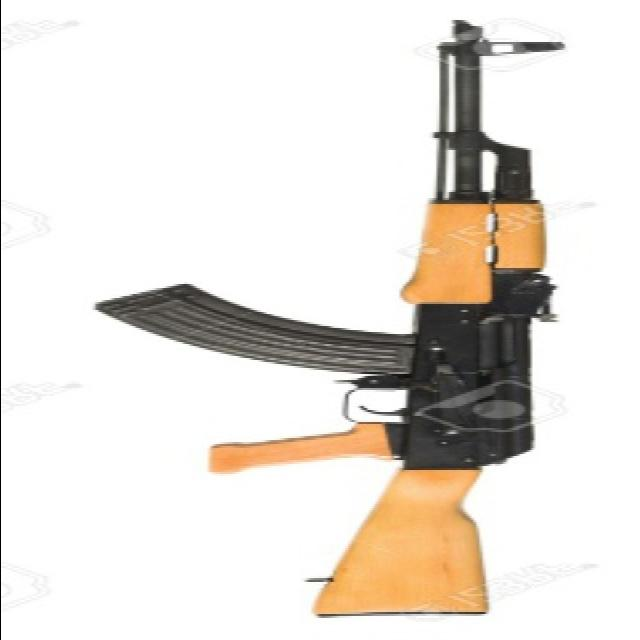rifle: (94, 15, 579, 625)
